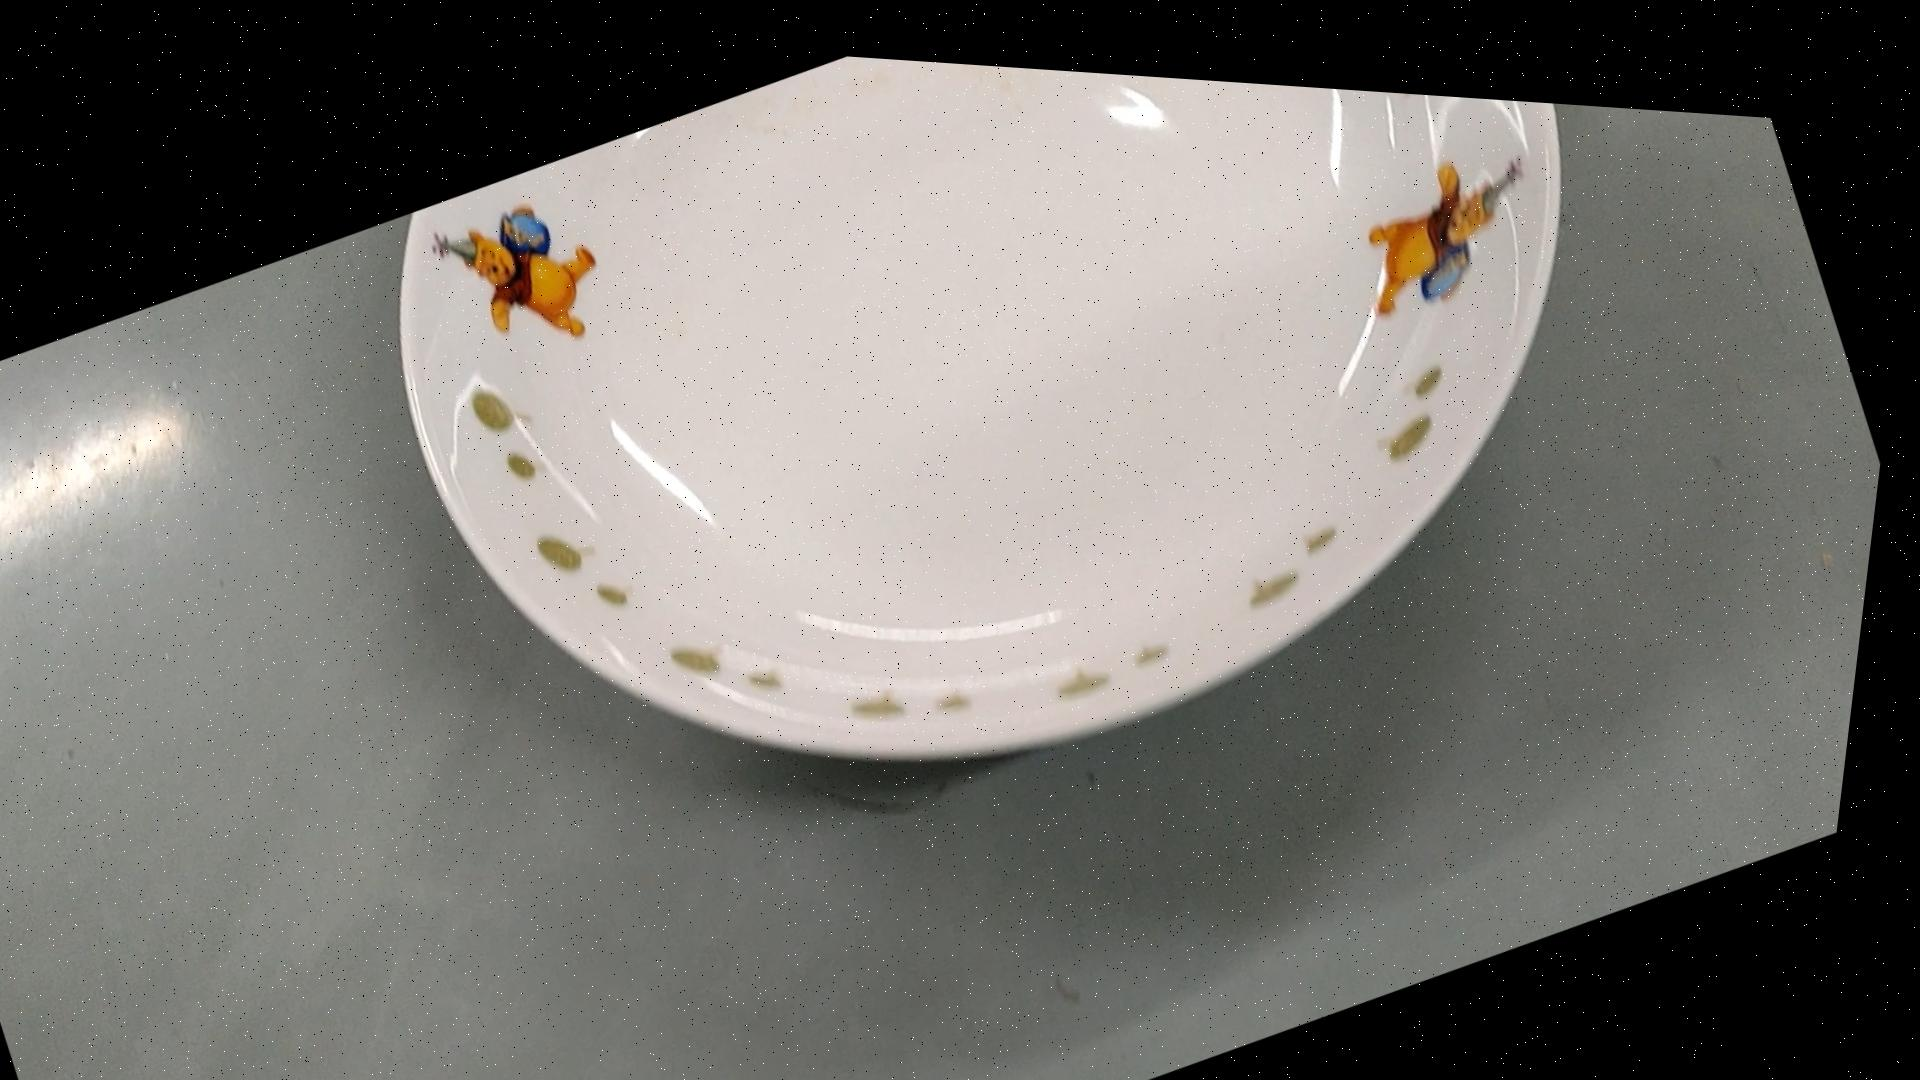plate: (301, 20, 1738, 967)
